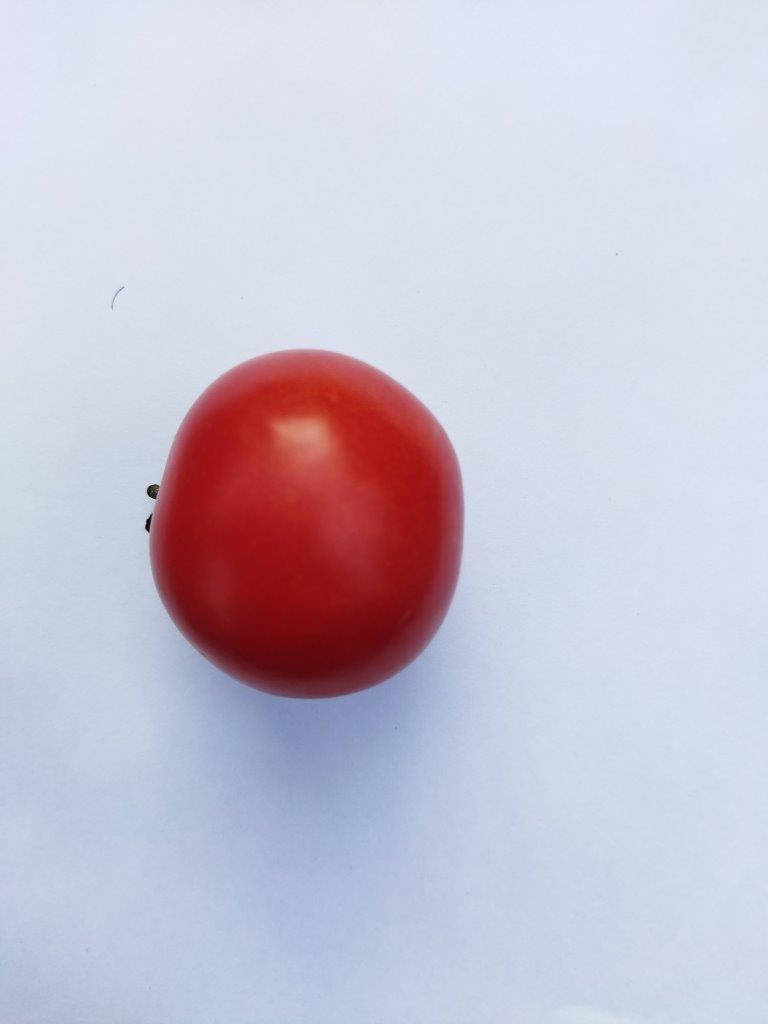tomato: (148, 350, 462, 697)
